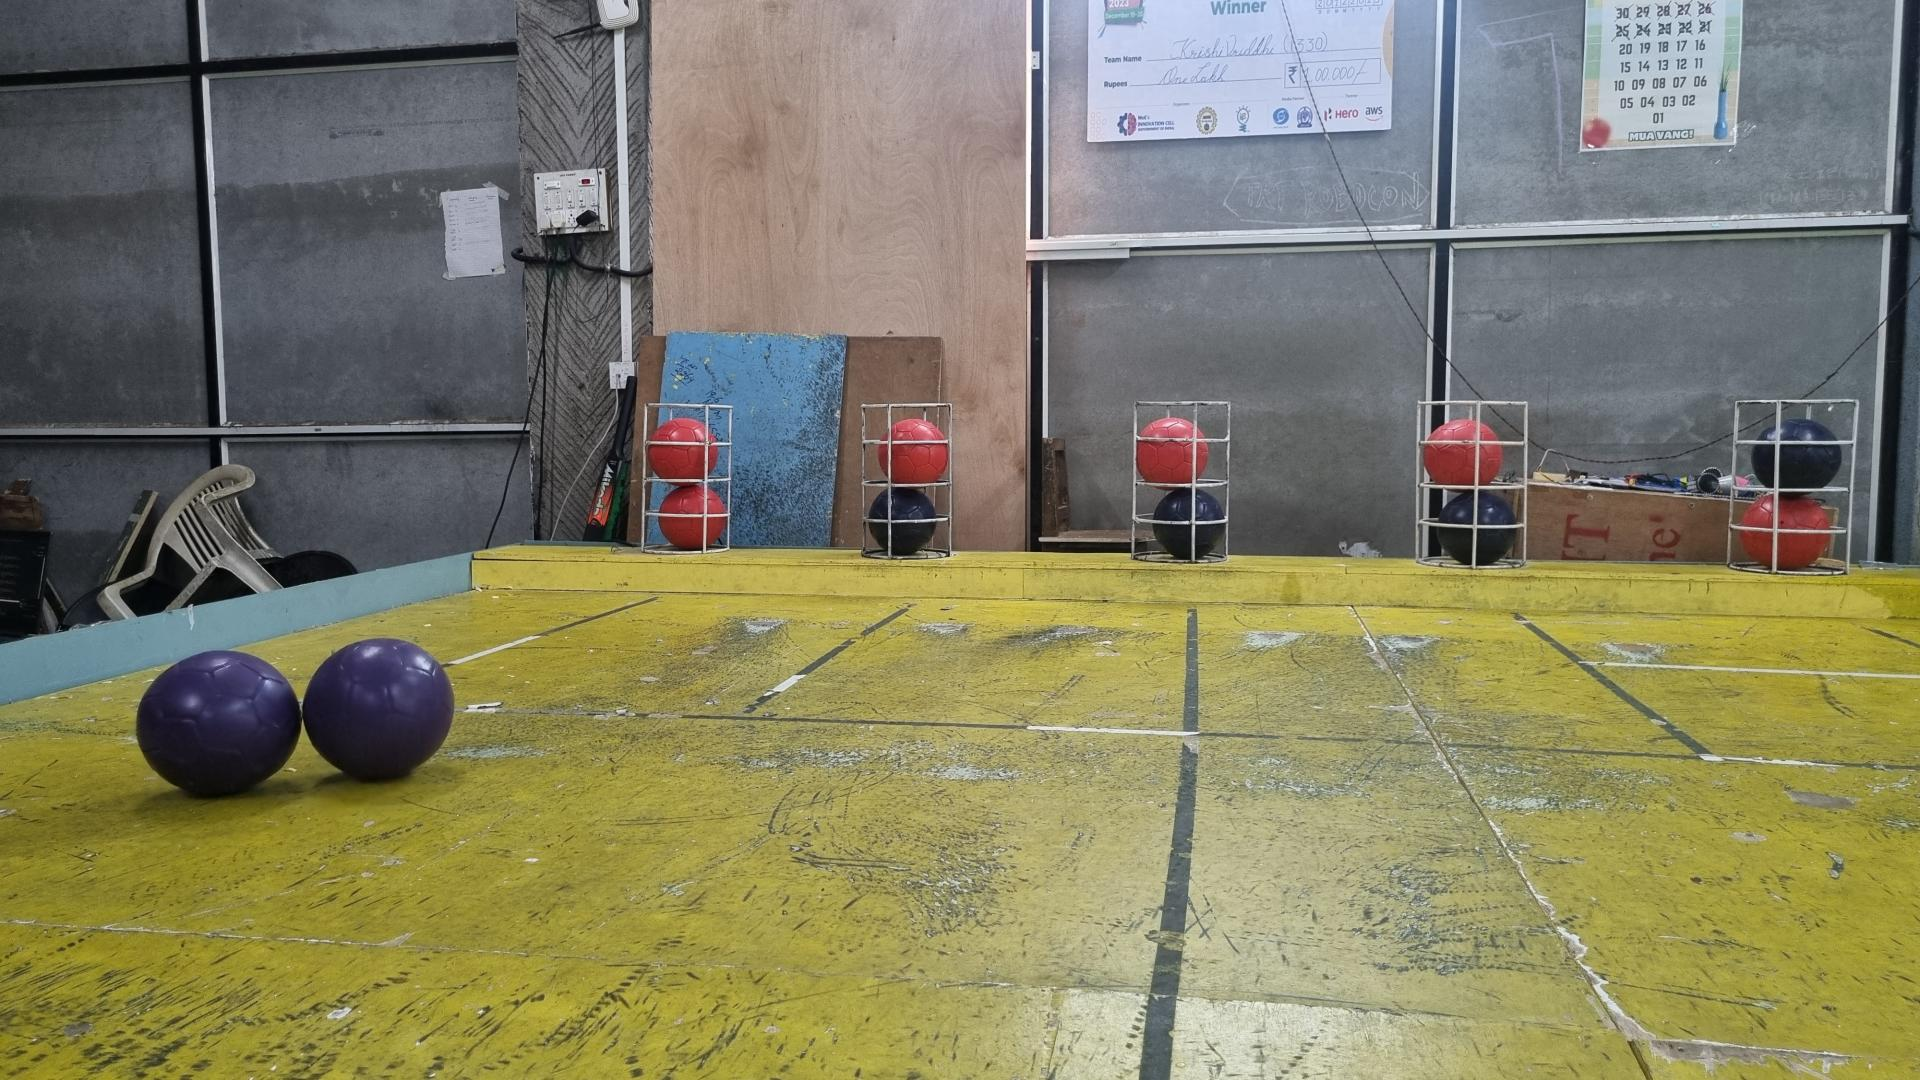dhoka: (1751, 419, 1841, 491), (1436, 491, 1515, 566), (1151, 487, 1226, 558), (866, 487, 938, 555)
laale: (1741, 495, 1830, 570), (1422, 419, 1503, 487), (1137, 415, 1208, 484), (659, 484, 728, 551), (877, 419, 948, 484), (649, 415, 720, 480)
